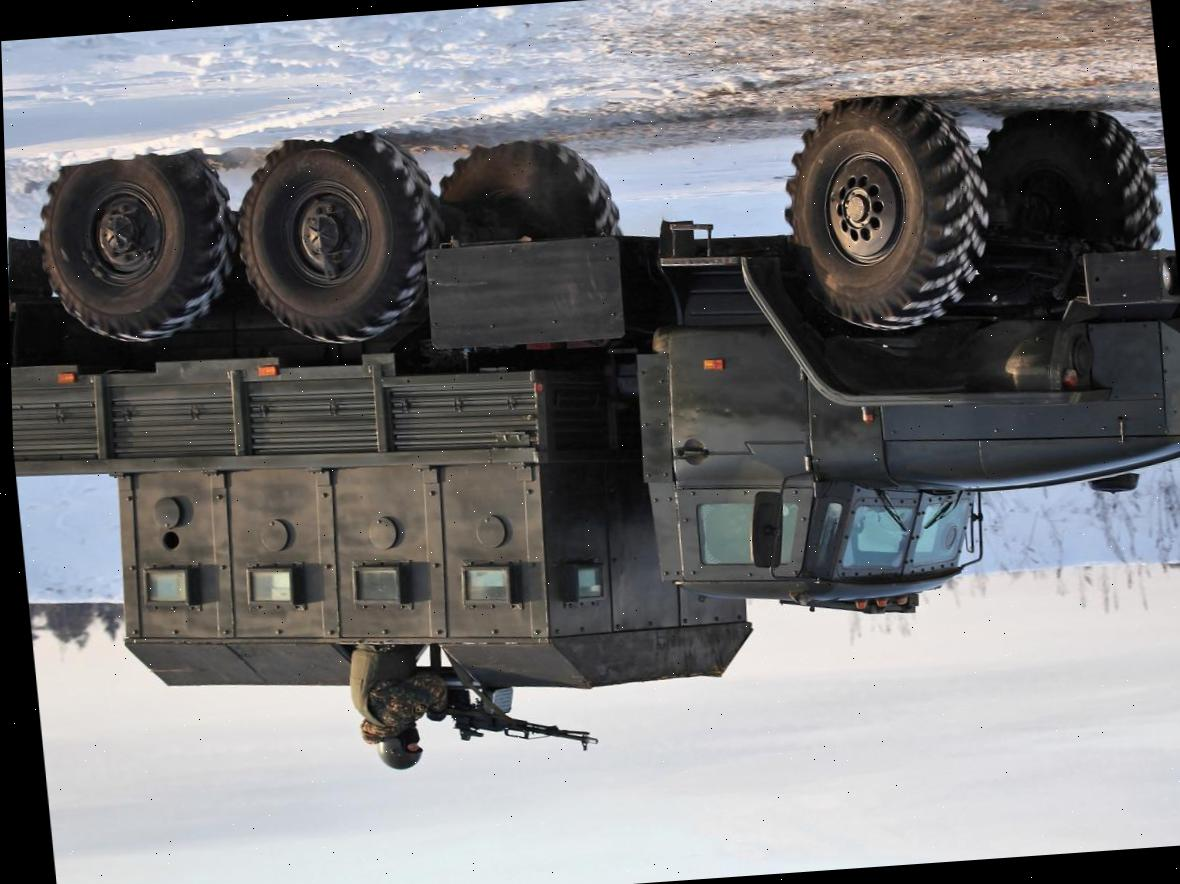truck: (2, 74, 1180, 725)
